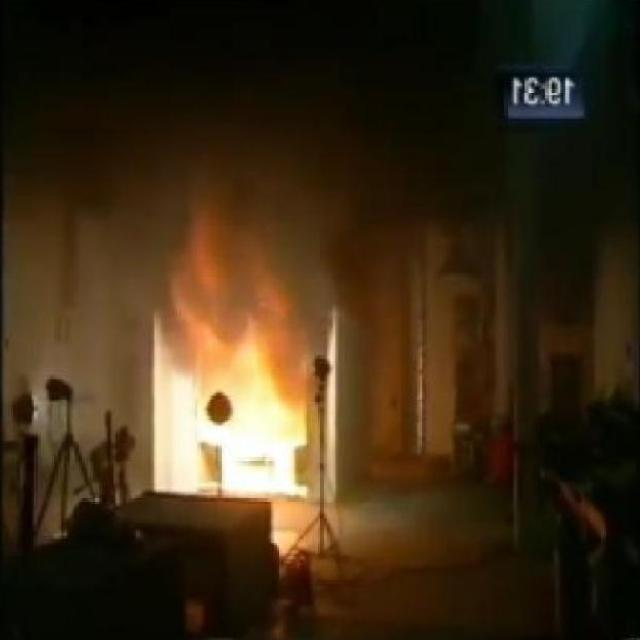smoke: (165, 187, 306, 494)
